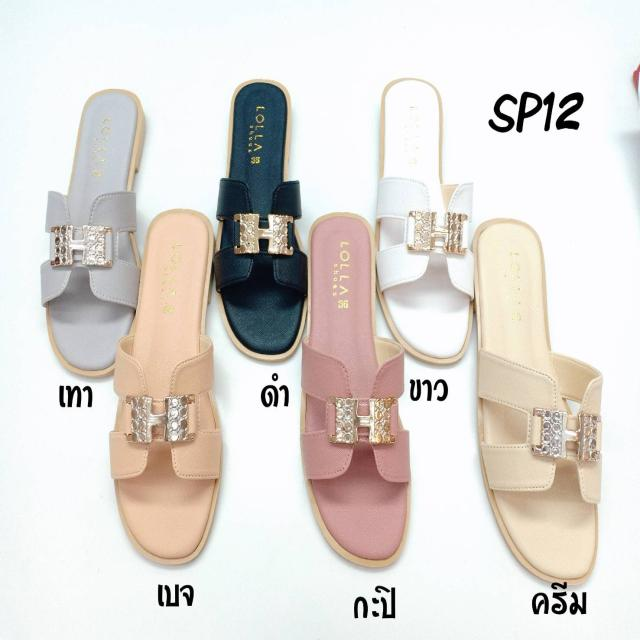bej: (120, 210, 224, 563)
black: (218, 84, 311, 352)
cream: (467, 224, 600, 588)
grey: (46, 86, 139, 368)
kapi: (302, 217, 406, 566)
white: (376, 72, 465, 359)
